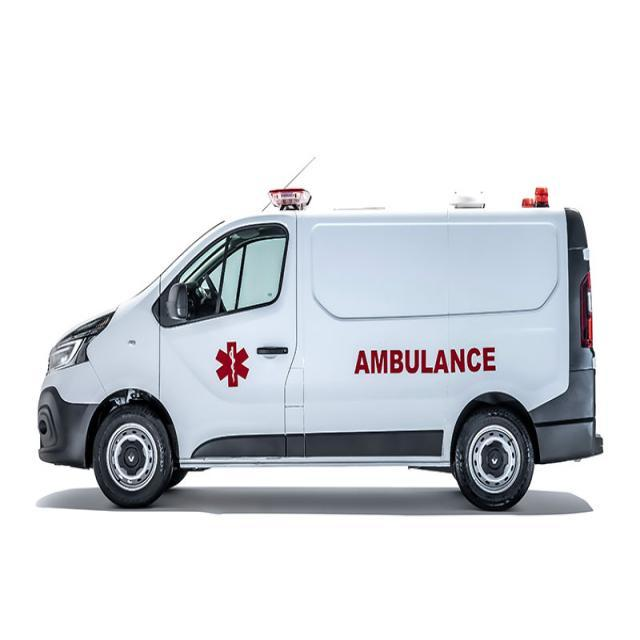ambulance: (36, 145, 609, 526)
